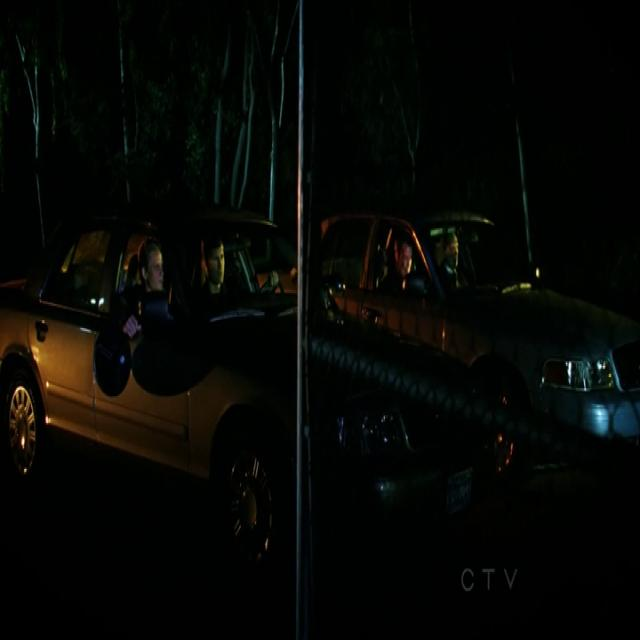People: (197, 233, 280, 316), (109, 234, 168, 341), (434, 229, 488, 292), (386, 225, 424, 313)
car: (0, 187, 595, 591), (312, 193, 640, 462)
